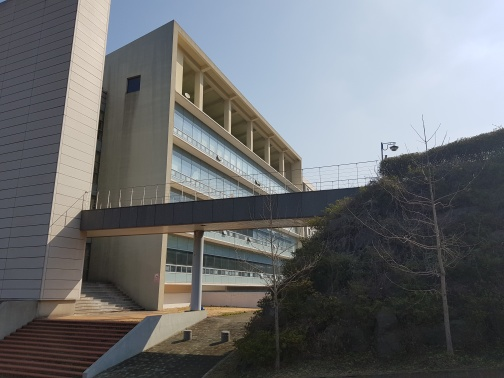Engineering College Building 4: (6, 8, 275, 306), (109, 39, 260, 301)
